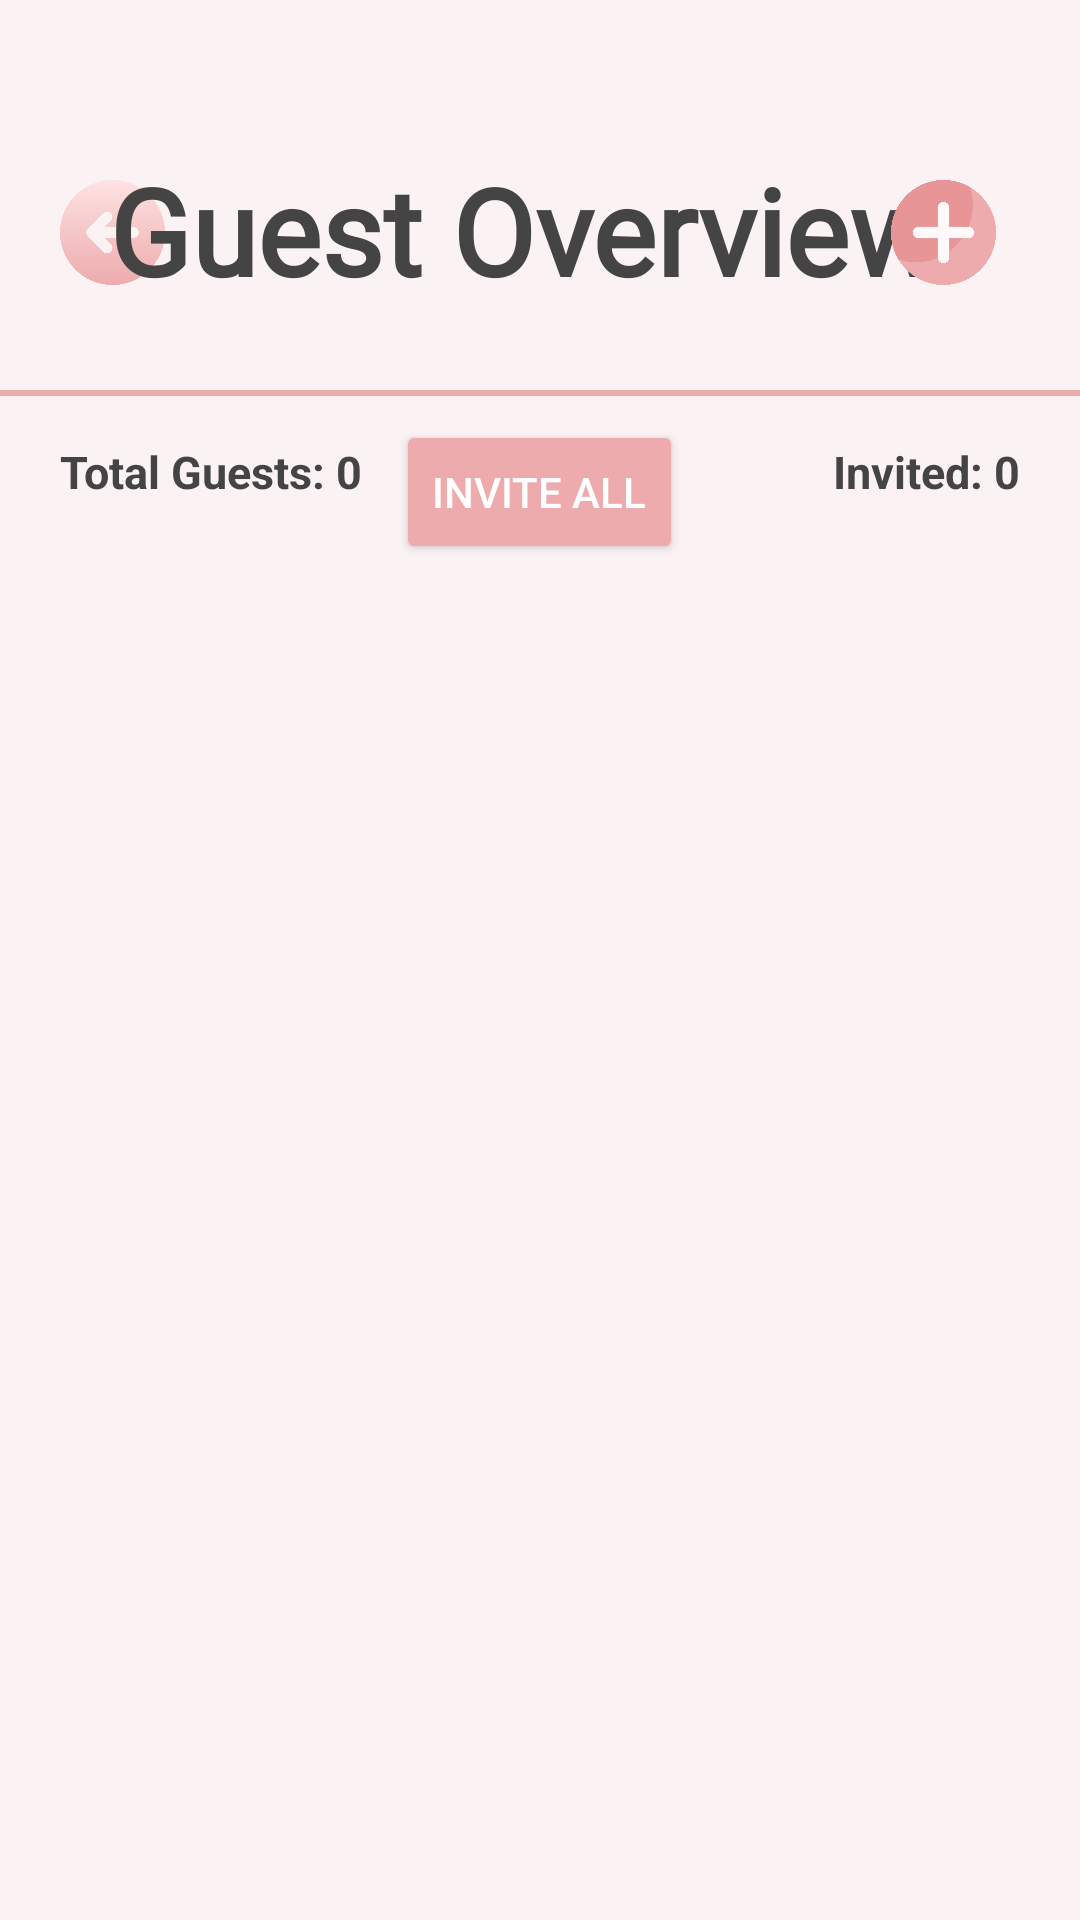

Screen size 1080w x 1920h. Icon name, then its box in pixels as (x1, y1, x2, y2):
Add Guest: (891, 180, 996, 285)
